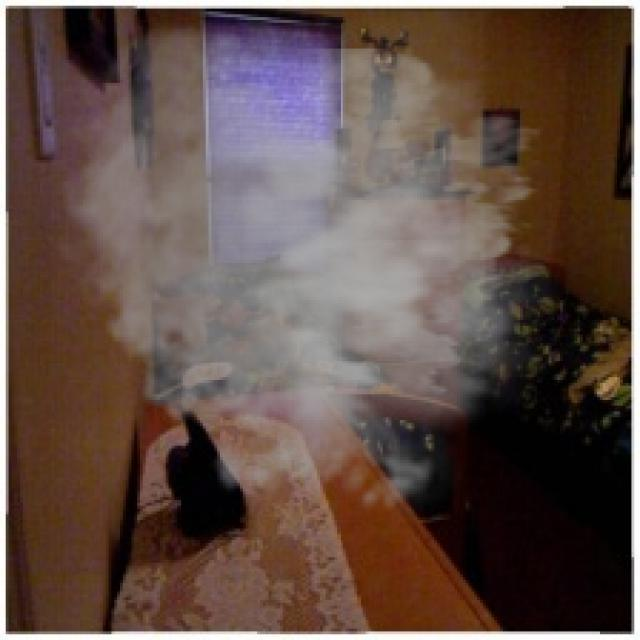Smoke: (45, 11, 578, 526)
